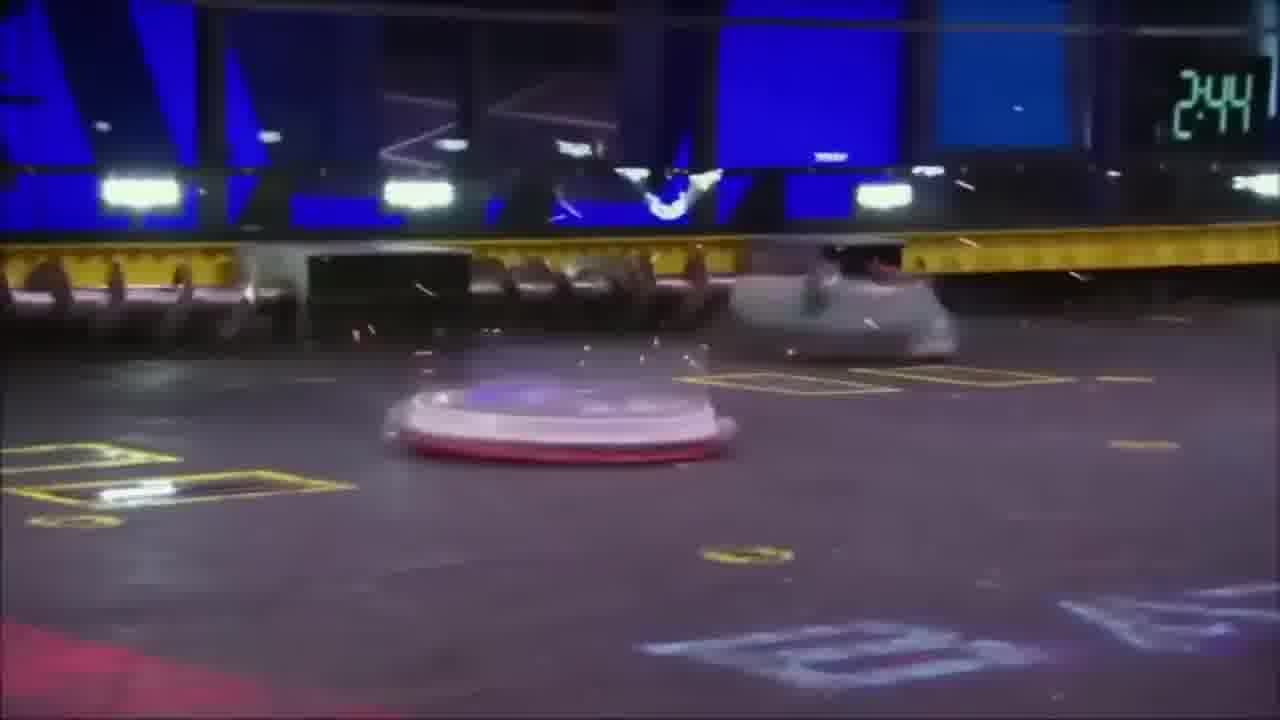combatbot: (381, 370, 737, 472), (713, 254, 955, 363)
